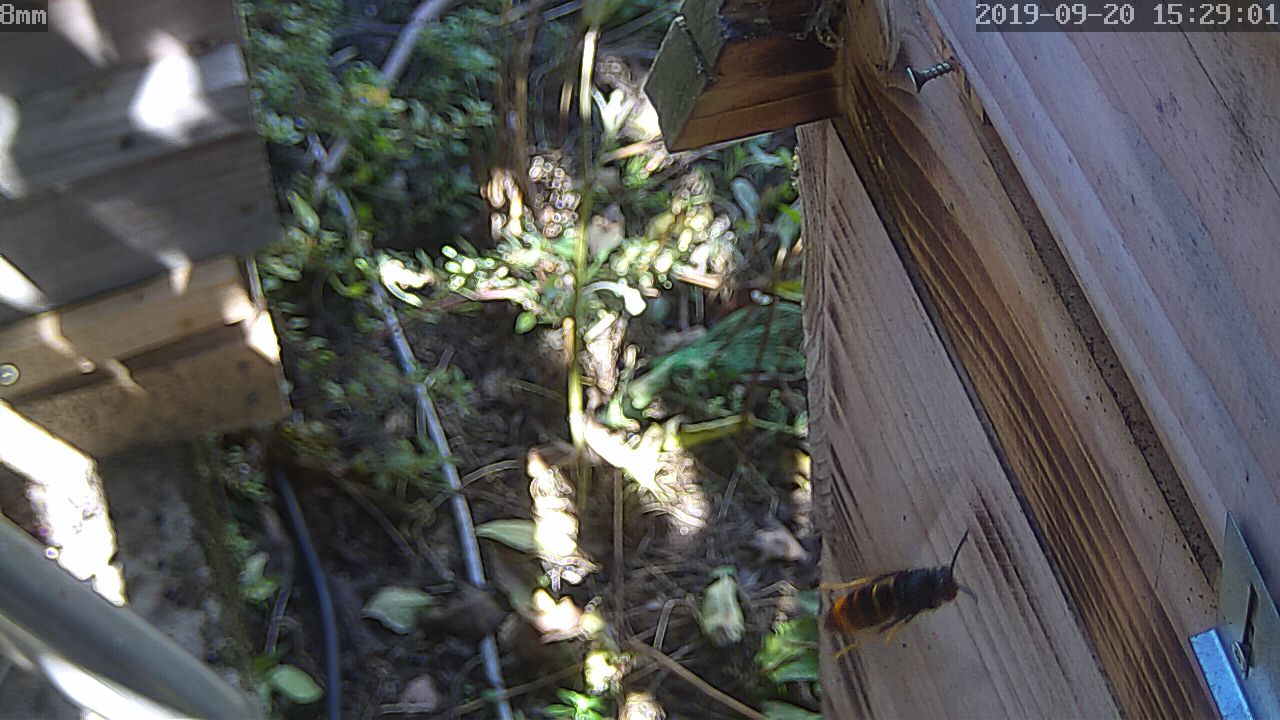hornet: (811, 548, 984, 650)
